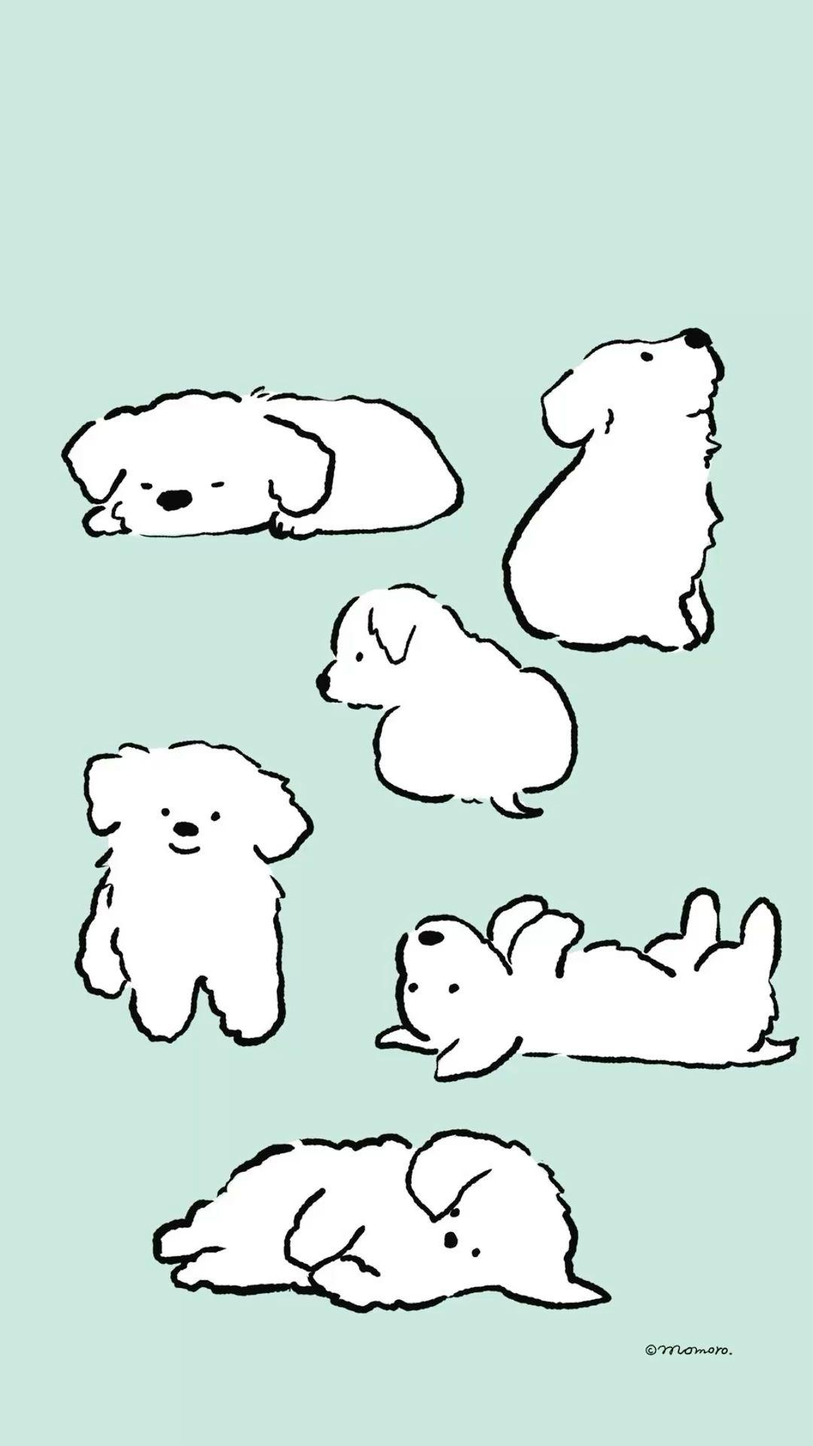puppy-dog: (148, 1128, 615, 1316), (373, 885, 802, 1084), (70, 737, 315, 1050), (501, 325, 728, 657), (314, 581, 582, 822), (58, 389, 466, 541)
